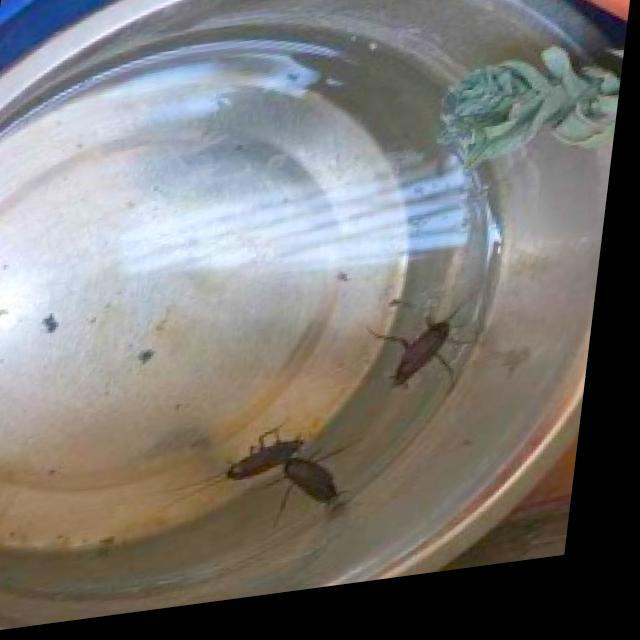cockroach: (389, 294, 468, 394), (206, 422, 325, 484), (277, 458, 361, 534)
